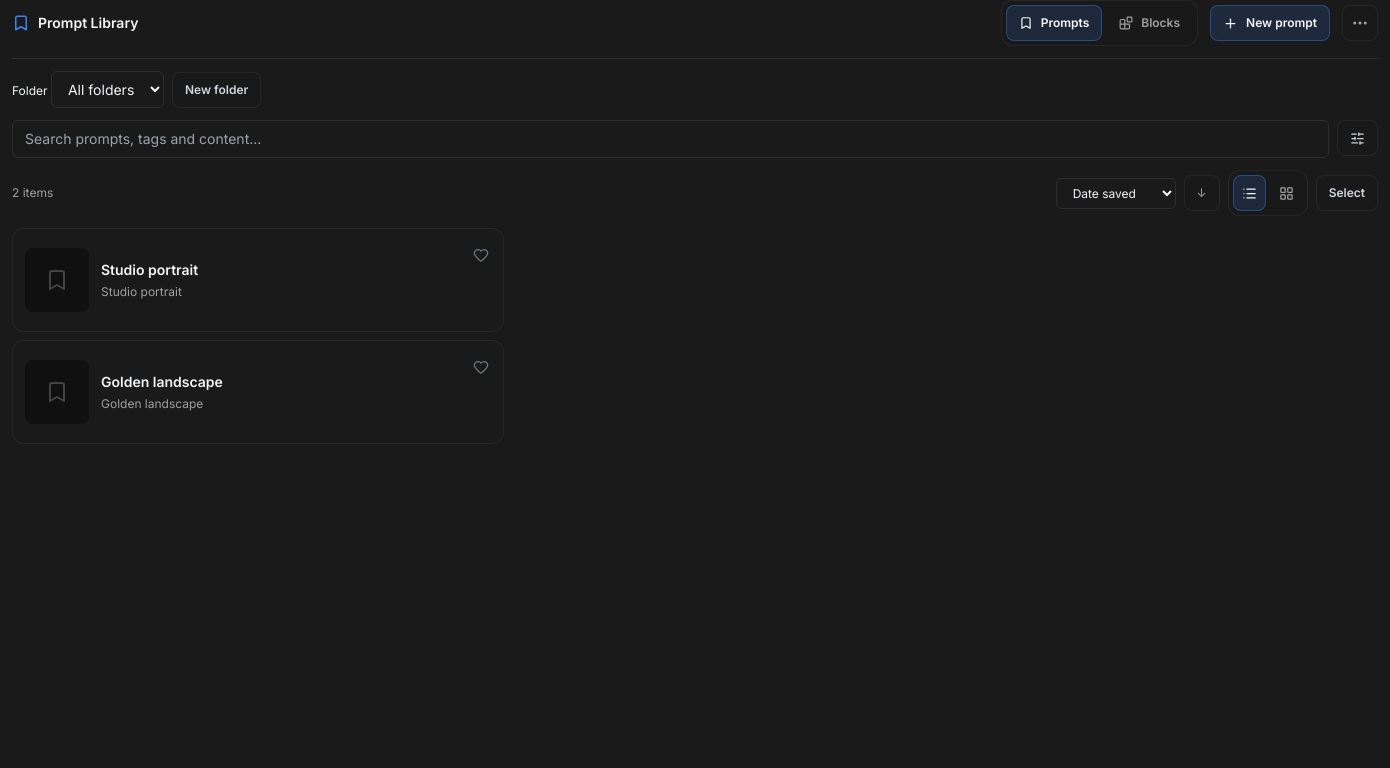
Test: integrated Prompt Library › waits for tag saves before Edit on a prompt and uses the latest revision
Click the button with aria-label "Open Studio portrait" at (57, 280), box 25,248 -> 491,312
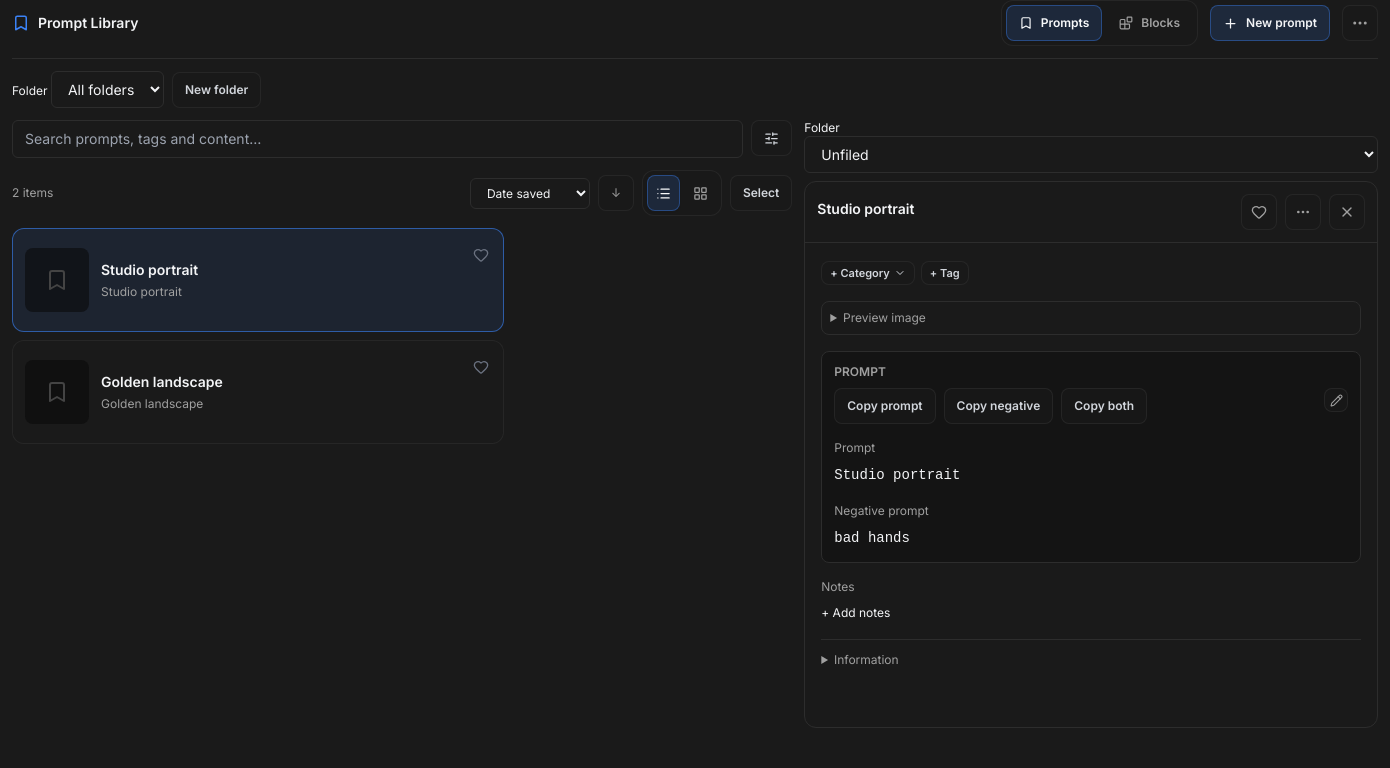
Click the button "+ Tag" at (945, 273), box 921,261 -> 969,285
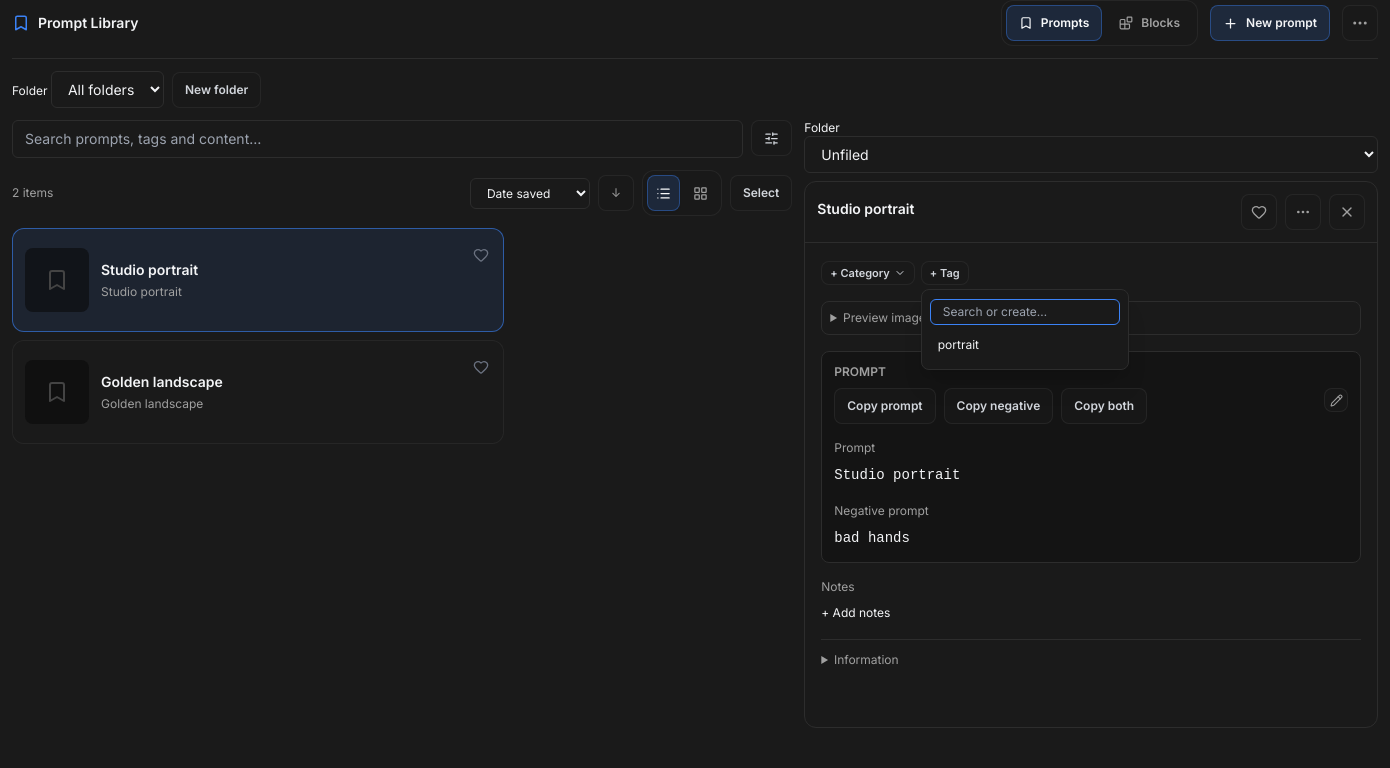
Type "new-tag" into the field named "Search or create tag" at (1025, 312), box 930,299 -> 1120,325
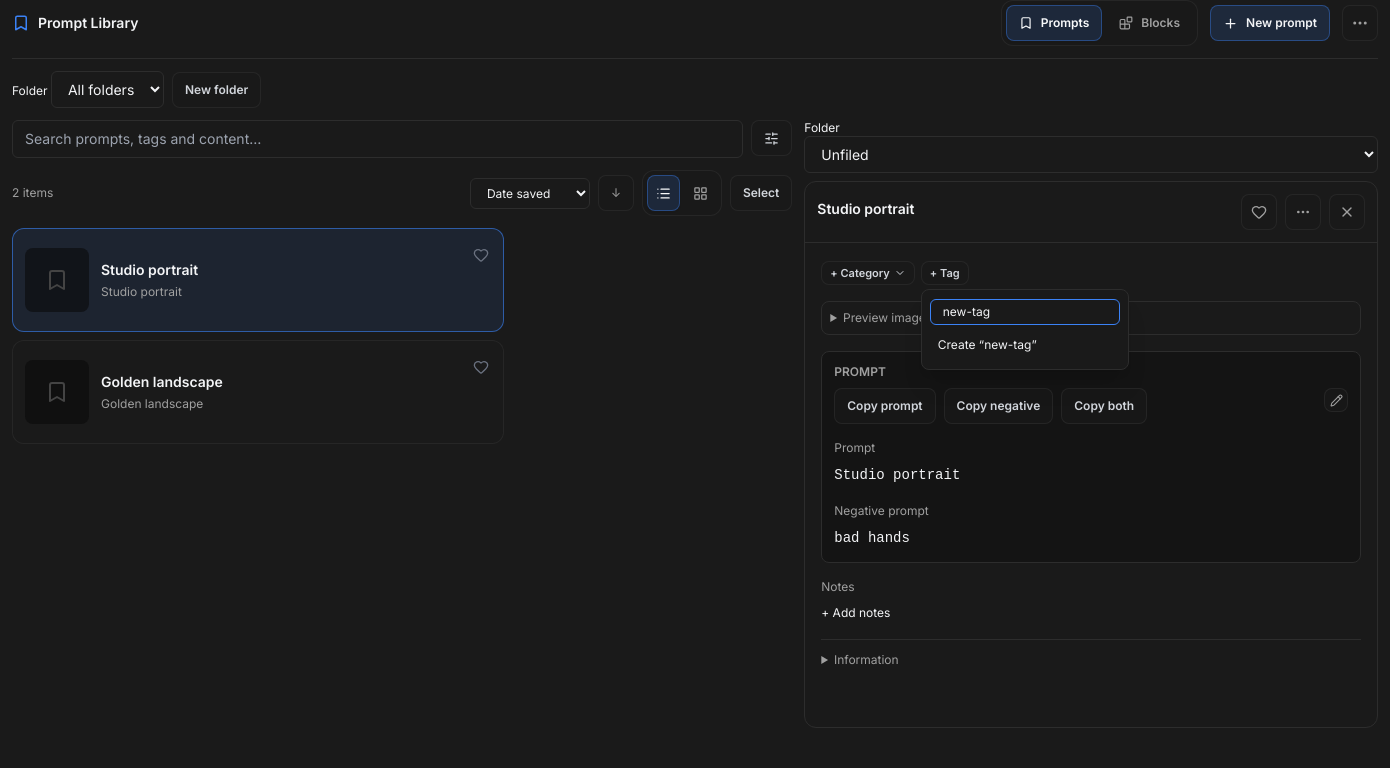
Press Enter in the field named "Search or create tag", box 930,299 -> 1120,325
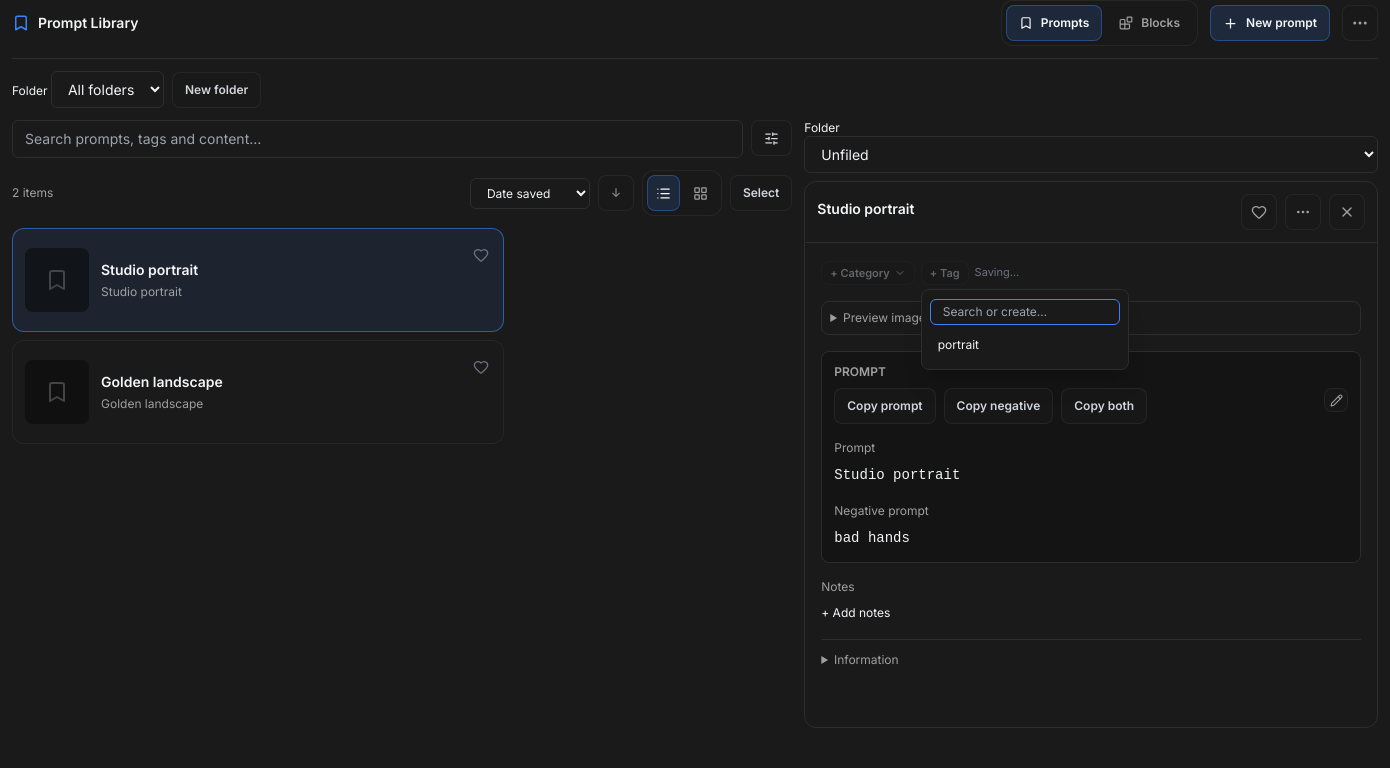
Click the button named "Edit content" at (1336, 400), box 1324,388 -> 1348,412
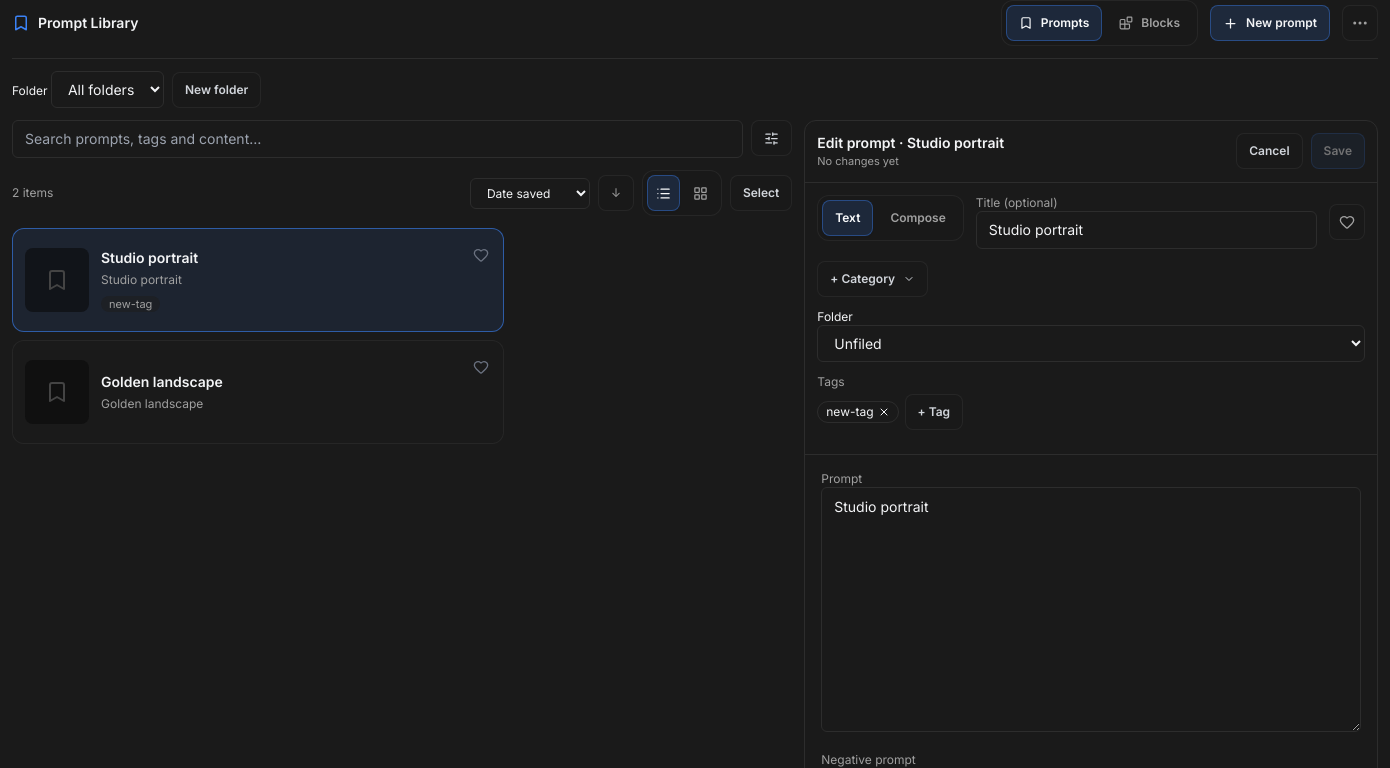
Expected: the button named "Remove tag new-tag" is shown, 878,406 -> 890,418
Expected: the message "Saving…" is gone
